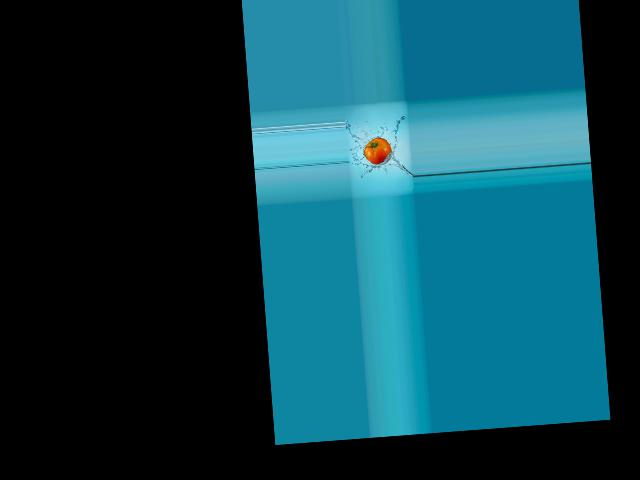tomato: (362, 137, 392, 165)
